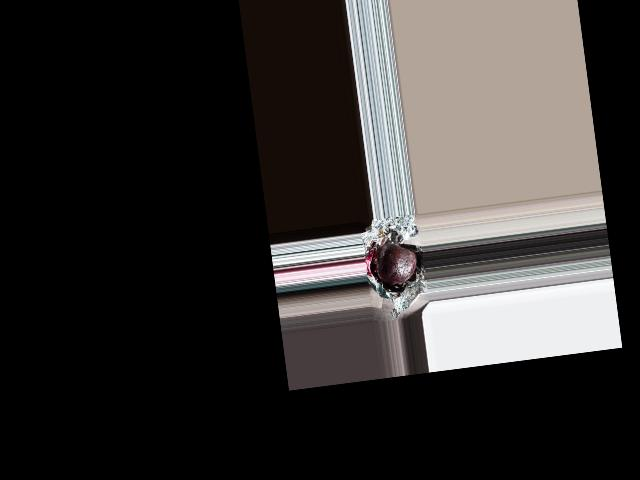beet: (375, 239, 419, 286)
